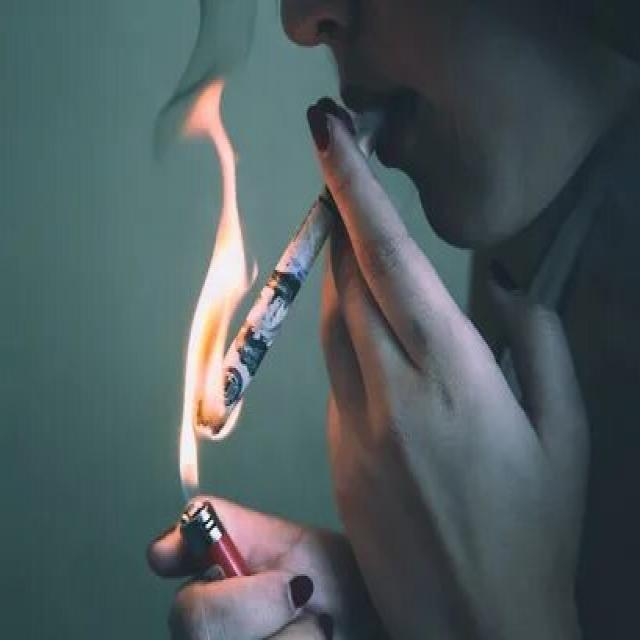smoke: (191, 112, 380, 454)
